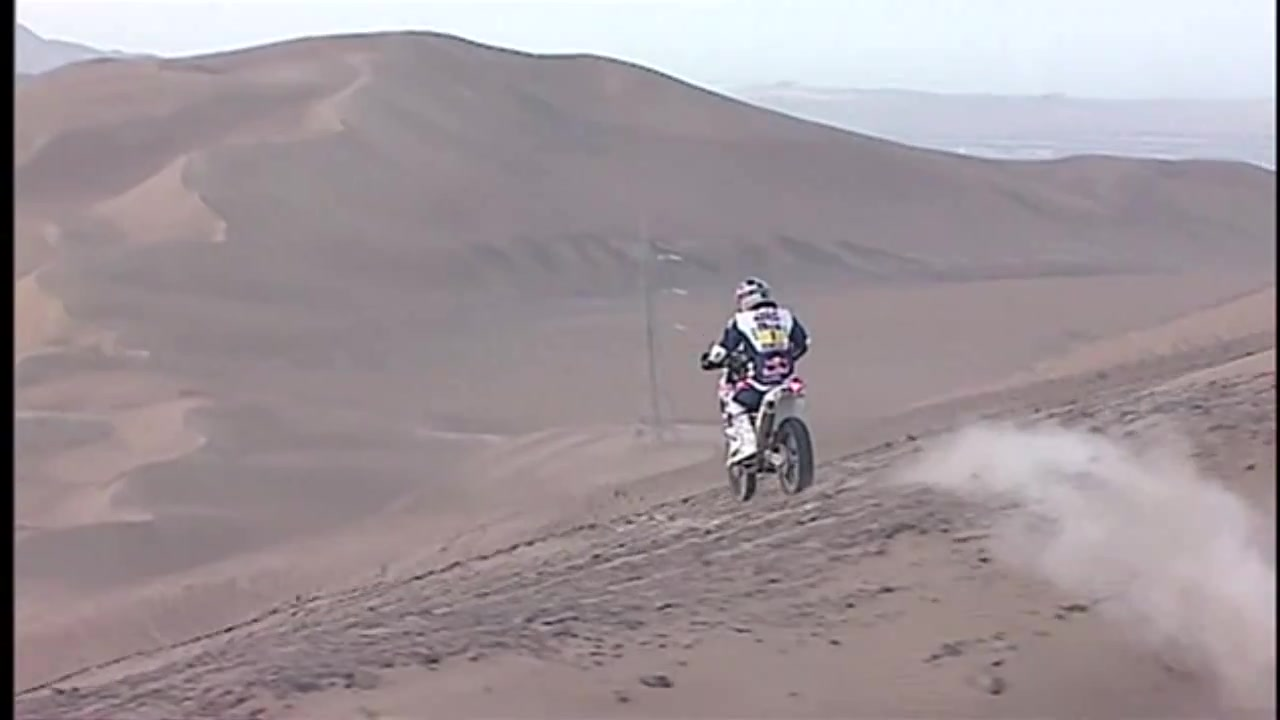motorbike: (697, 335, 825, 509)
